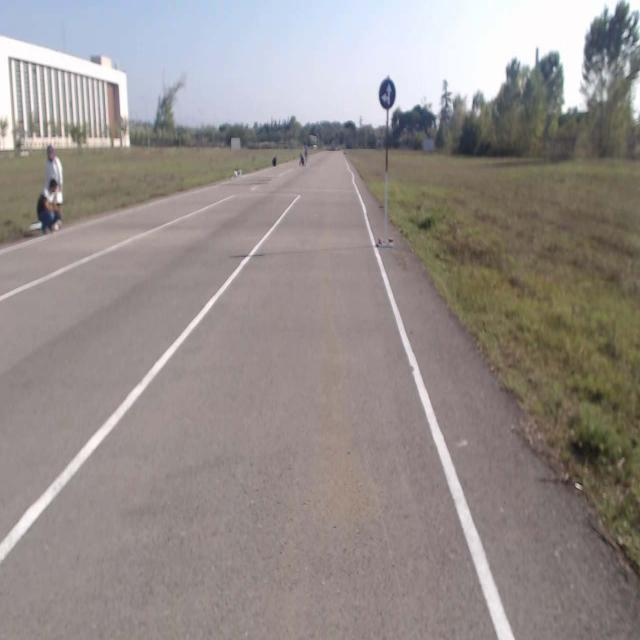ilerisol: (378, 79, 396, 109)
